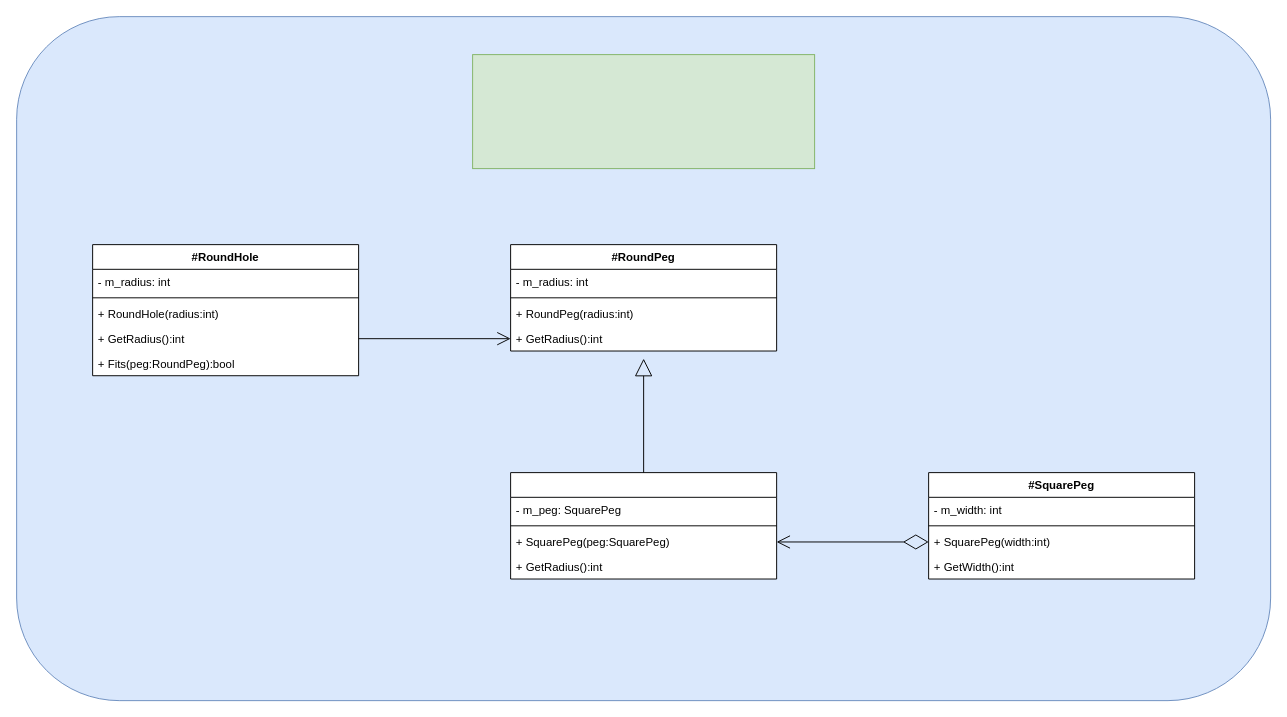
The diagram is 1287 pixels wide and 717 high, and some of its shapes have lost their labels. Each missing label, with the box of its shape:
#SquarePegRoundPegAdapter: (510, 472, 777, 579)
Adapter Design Pattern: (472, 54, 815, 169)
